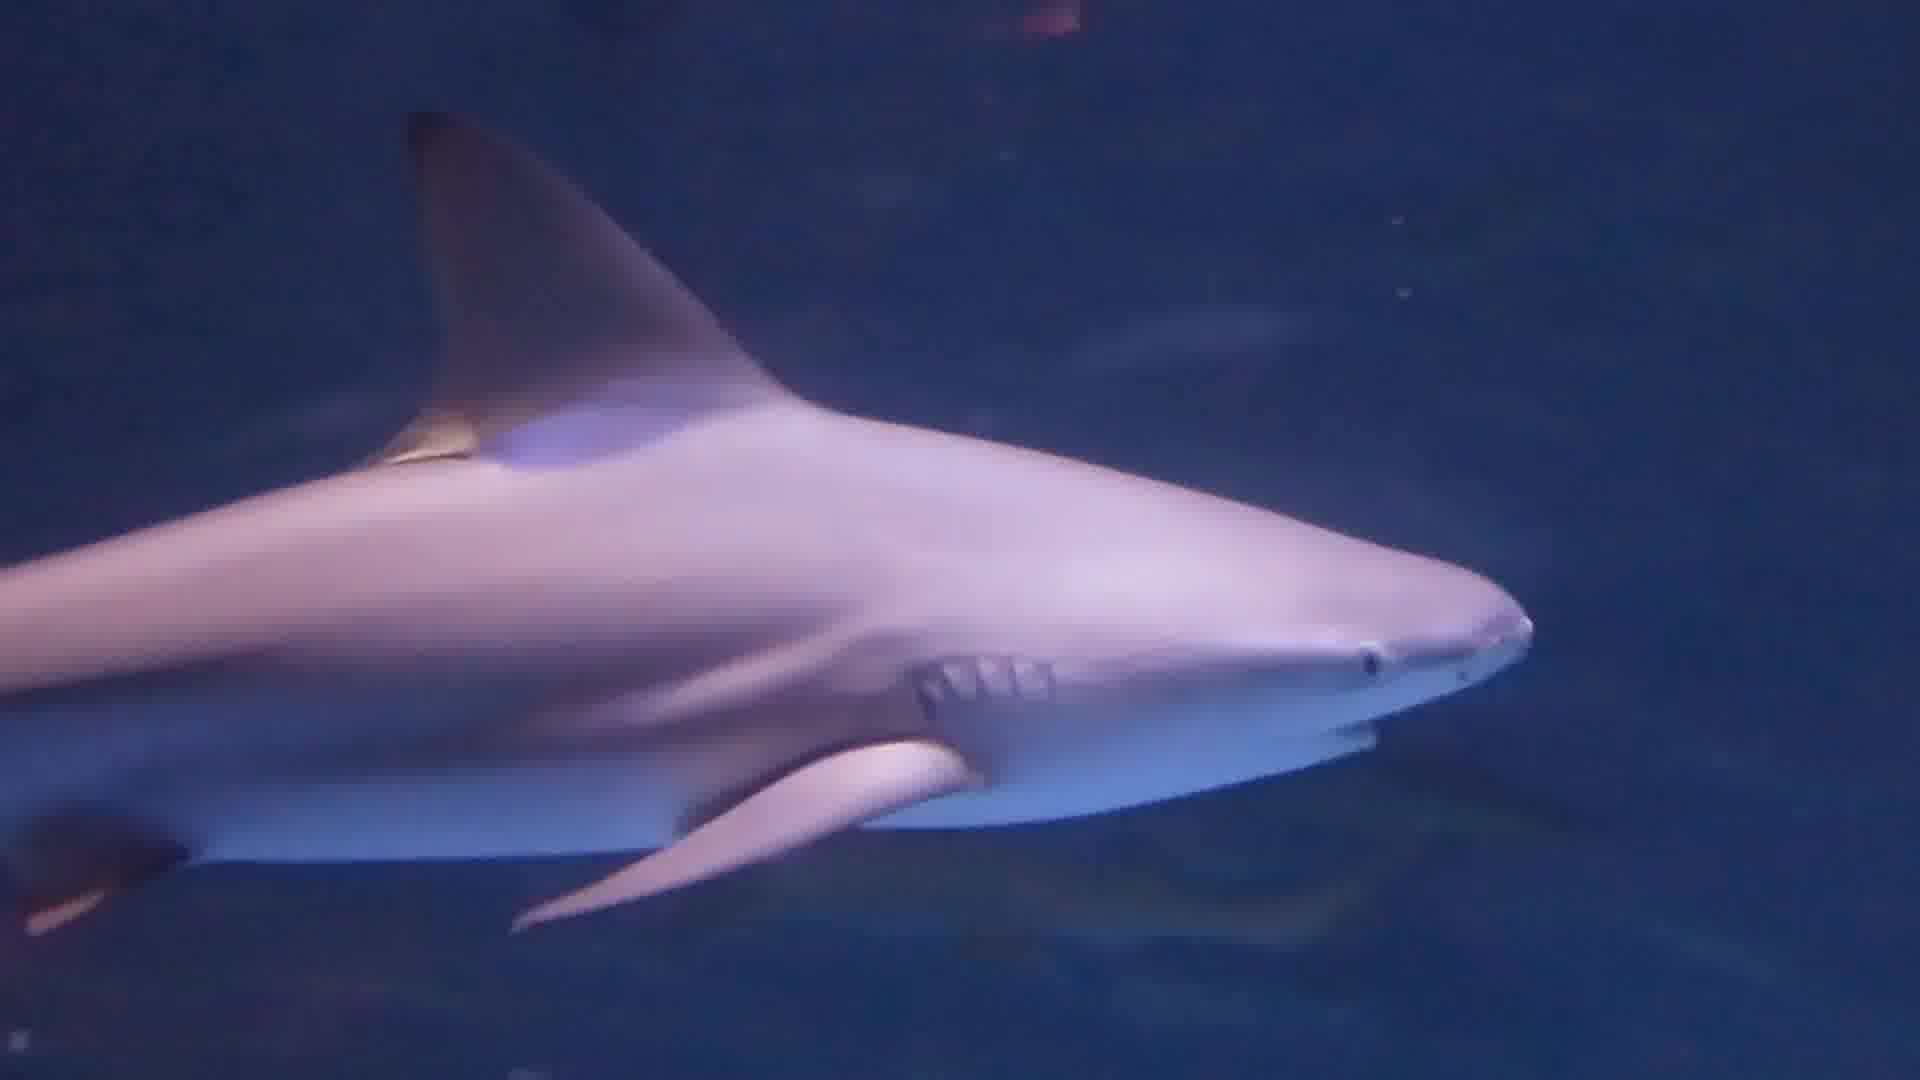Carcharhinus leucas: (3, 67, 1553, 935)
